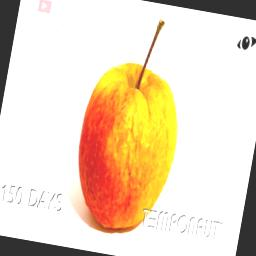Apple Overripe: (63, 0, 202, 242)
